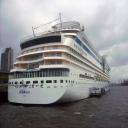cruises: (7, 13, 113, 108)
